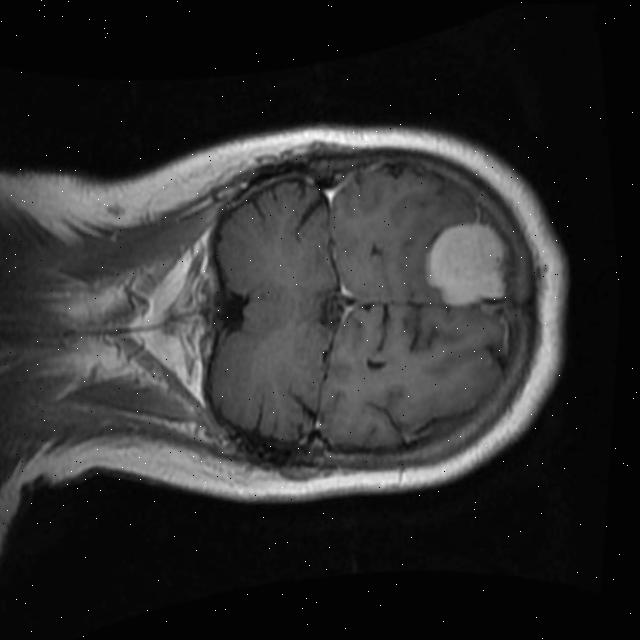Meningioma: (414, 213, 521, 315)
